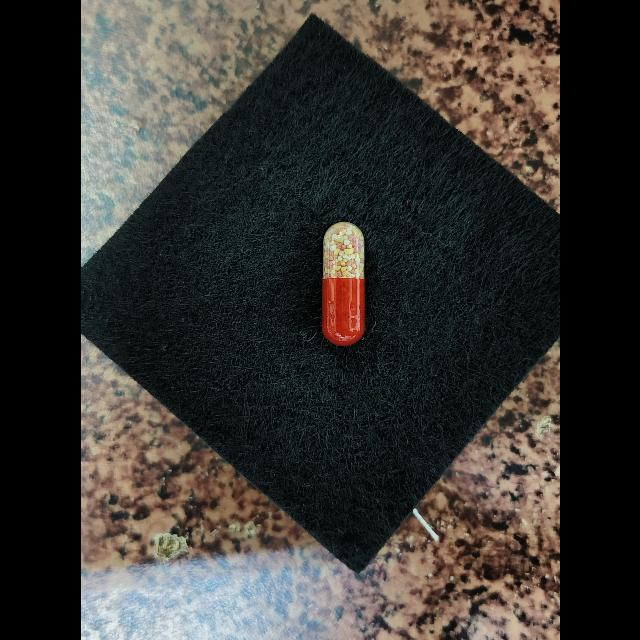Intact Capsule: (322, 221, 365, 345)
